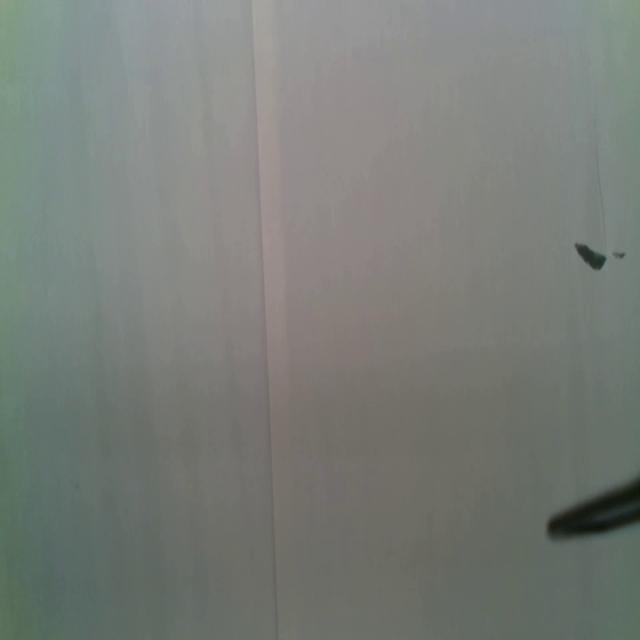crease: (250, 0, 299, 640)
hole: (573, 239, 608, 273), (612, 248, 628, 261)
